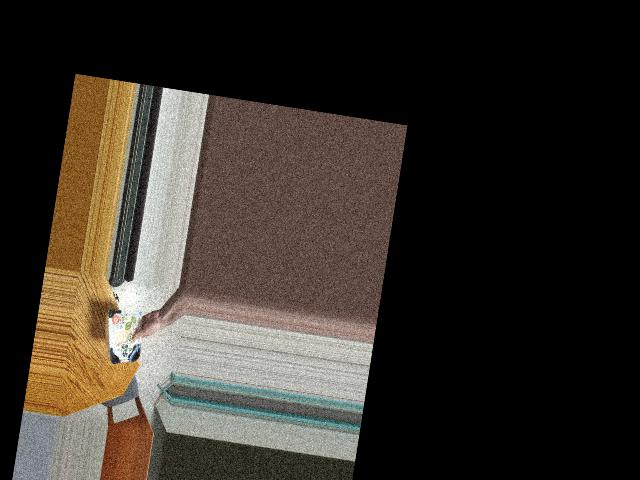cheese: (101, 316, 150, 362)
